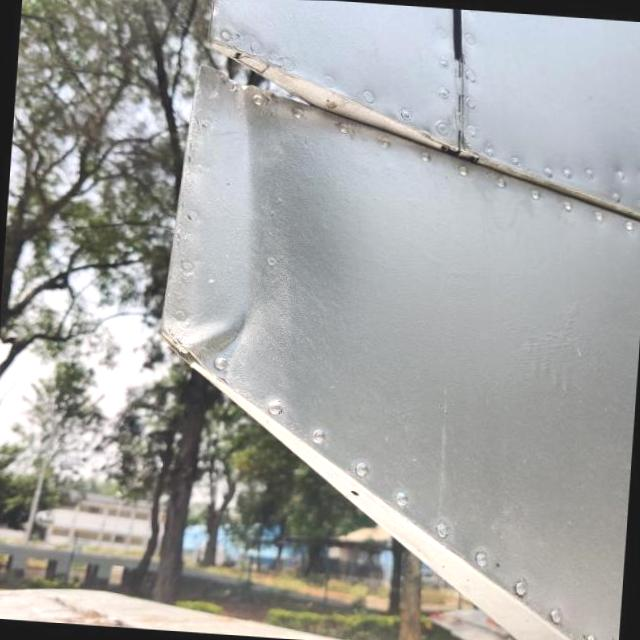dent: (160, 277, 250, 379)
